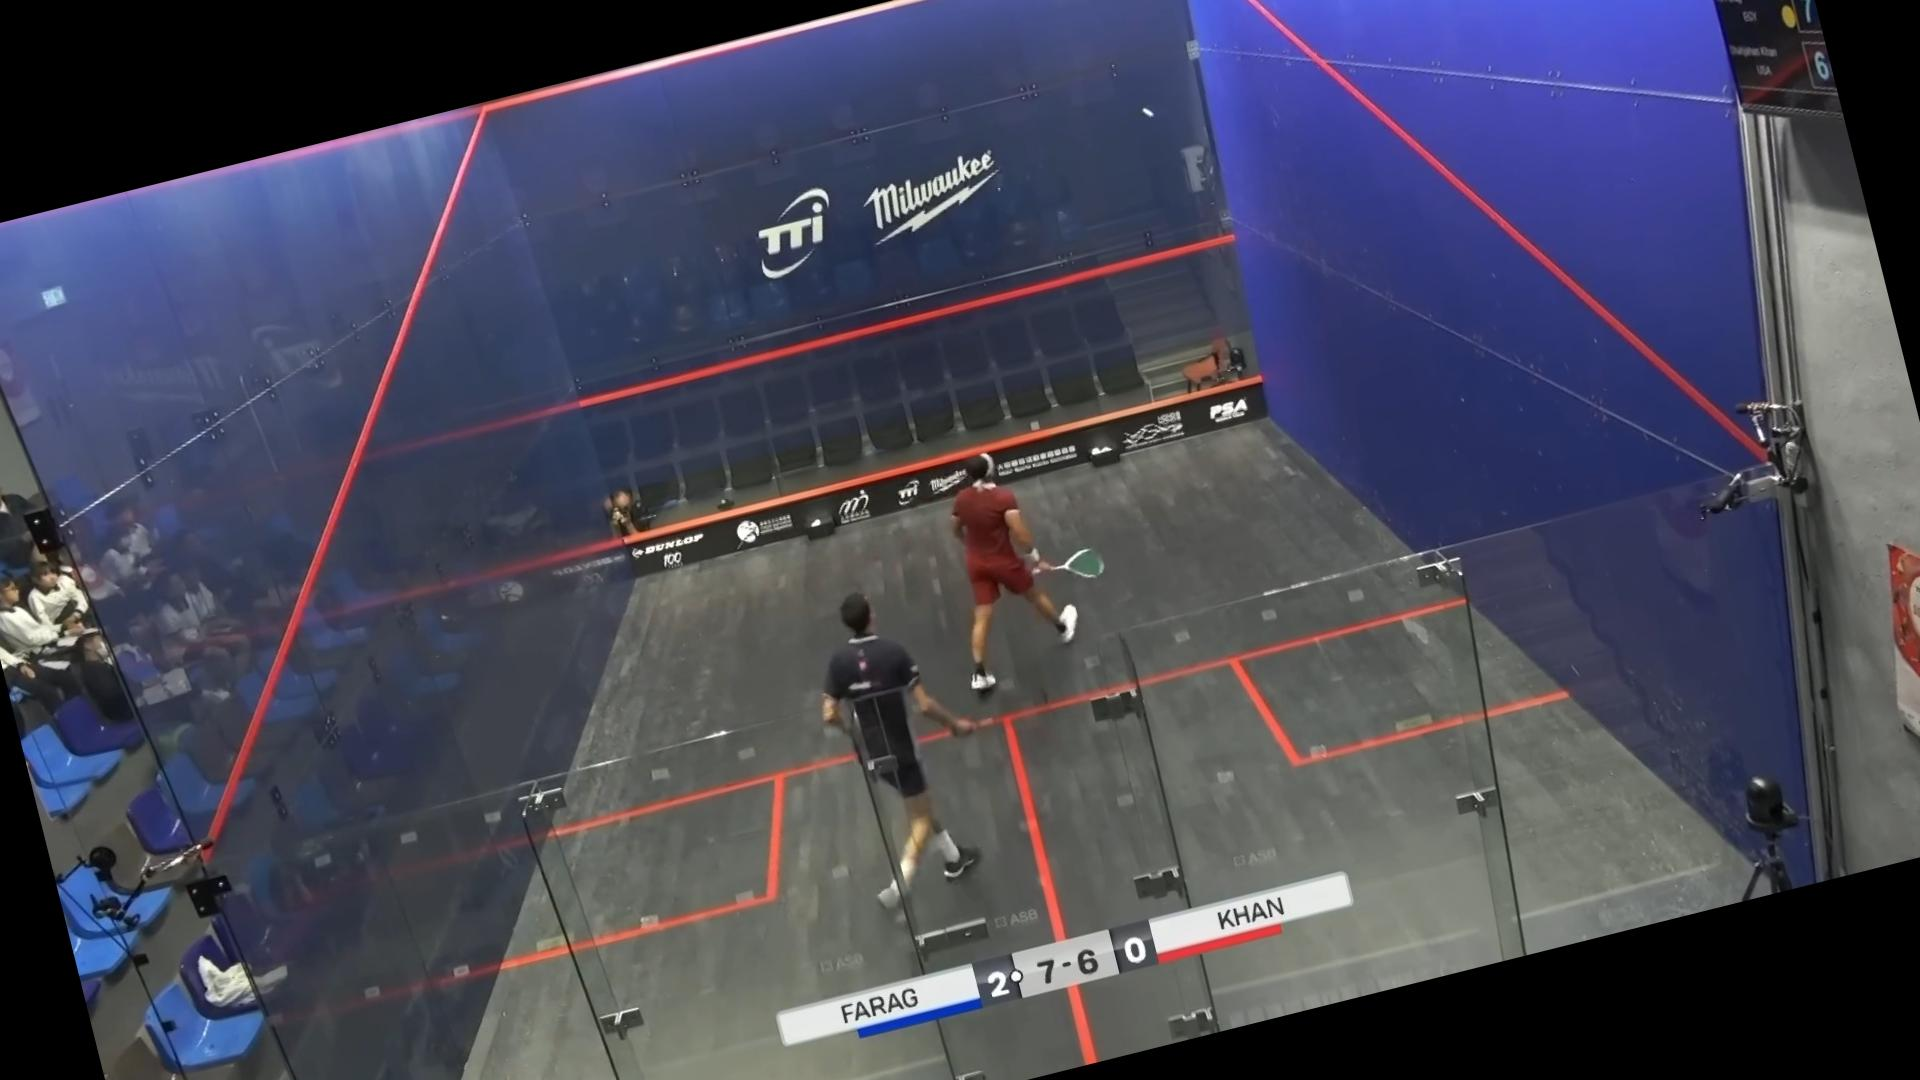Racket: (1048, 533, 1116, 596)
